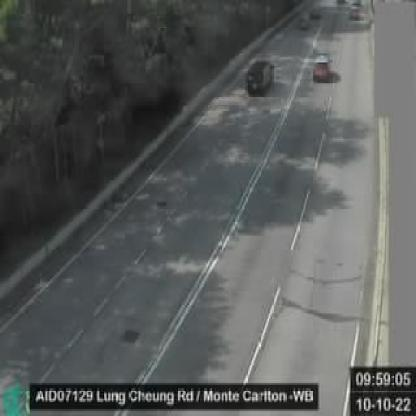Car: (313, 56, 331, 82)
Truck: (245, 58, 274, 94)
